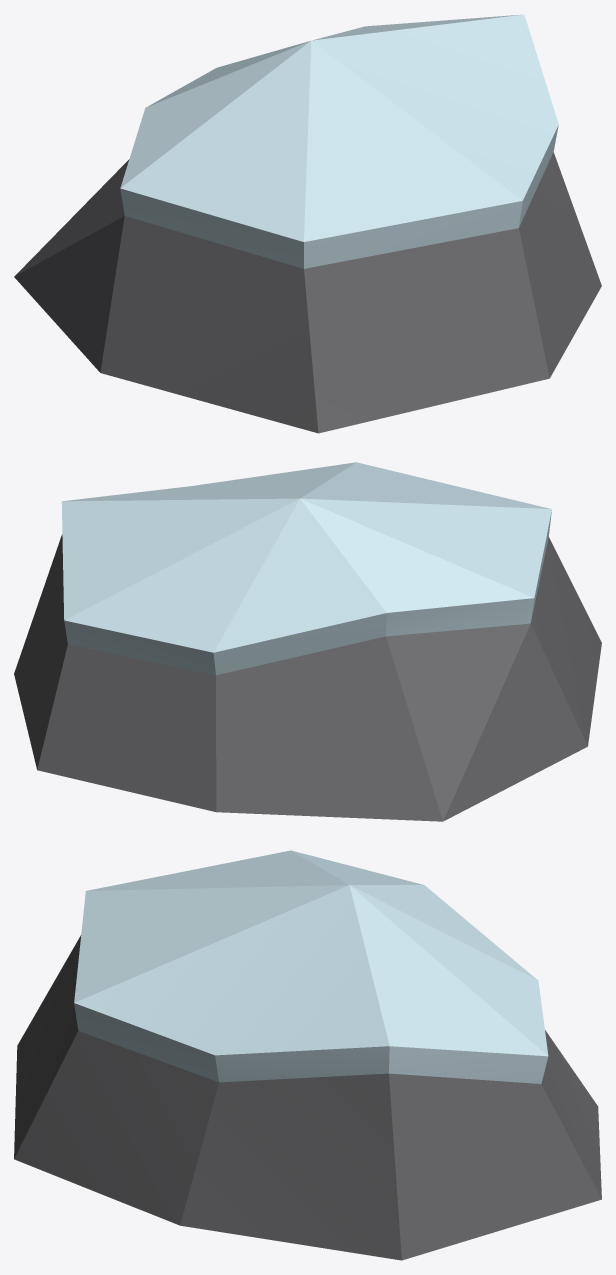
The model's file is Piedra_Pequeña01.glb.
3 views of the same model, one above another, from view 1: azimuth 30°, elevation 25°; view 2: azimuth 150°, elevation 25°; view 3: azimuth 270°, elevation 25° (orthographic). The views are drawn at different scales.
Visible parts, largest first — view 1: SM_Env_Stone_01_Snow; view 2: SM_Env_Stone_01_Snow; view 3: SM_Env_Stone_01_Snow.
Part boxes in pixels (bbox=[...]): SM_Env_Stone_01_Snow: bbox=[14, 14, 601, 433]; SM_Env_Stone_01_Snow: bbox=[14, 462, 601, 821]; SM_Env_Stone_01_Snow: bbox=[14, 850, 601, 1260].
Bounding box in the file's own units: 0.5582 × 0.2337 × 0.5231.
Materials: 1 (1 with a texture image).
